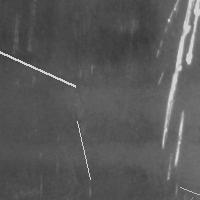scratches: (158, 1, 199, 147), (0, 47, 80, 91), (72, 116, 95, 184), (169, 107, 189, 170), (175, 182, 200, 200), (174, 192, 197, 200)
